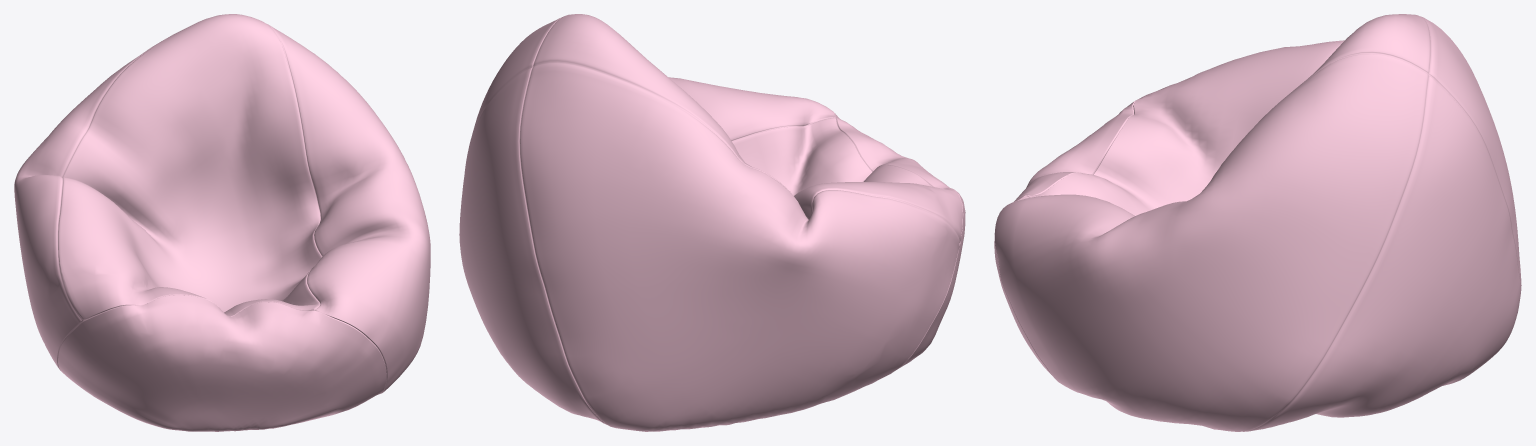
Rendered from bean_bag_pink.glb.
3 views of the same model, side by side, from view 1: azimuth 30°, elevation 25°; view 2: azimuth 150°, elevation 25°; view 3: azimuth 270°, elevation 25° (orthographic). The views are drawn at different scales.
Parts seen in each view (by area): view 1: bean_bag_chair_mesh_n3d; view 2: bean_bag_chair_mesh_n3d; view 3: bean_bag_chair_mesh_n3d.
Part boxes in pixels (box(x1,y1,x2,y2)): bean_bag_chair_mesh_n3d: box(14, 14, 430, 431); bean_bag_chair_mesh_n3d: box(459, 14, 965, 431); bean_bag_chair_mesh_n3d: box(994, 14, 1521, 431).
Bounding box in the file's own units: 1.22 × 0.9303 × 1.24.
